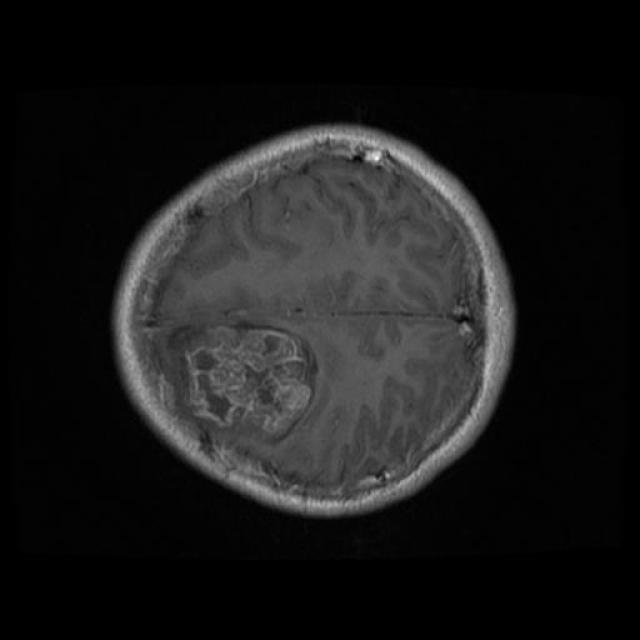Glioma: (180, 325, 314, 434)
